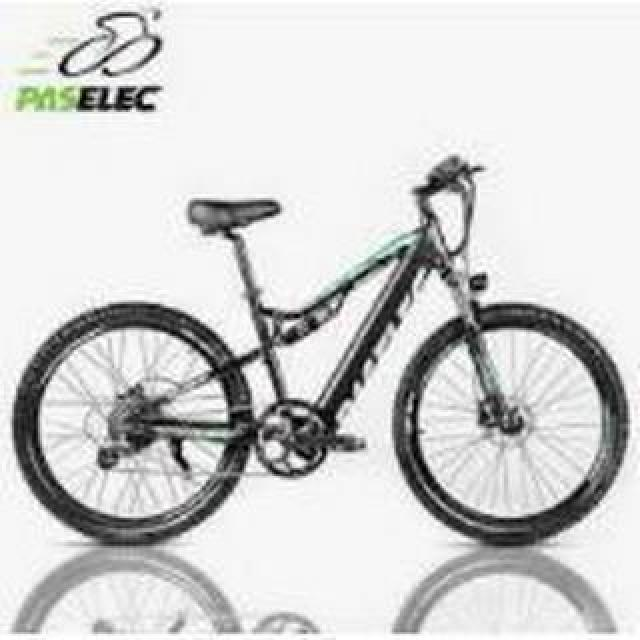Person: (17, 153, 629, 549)
